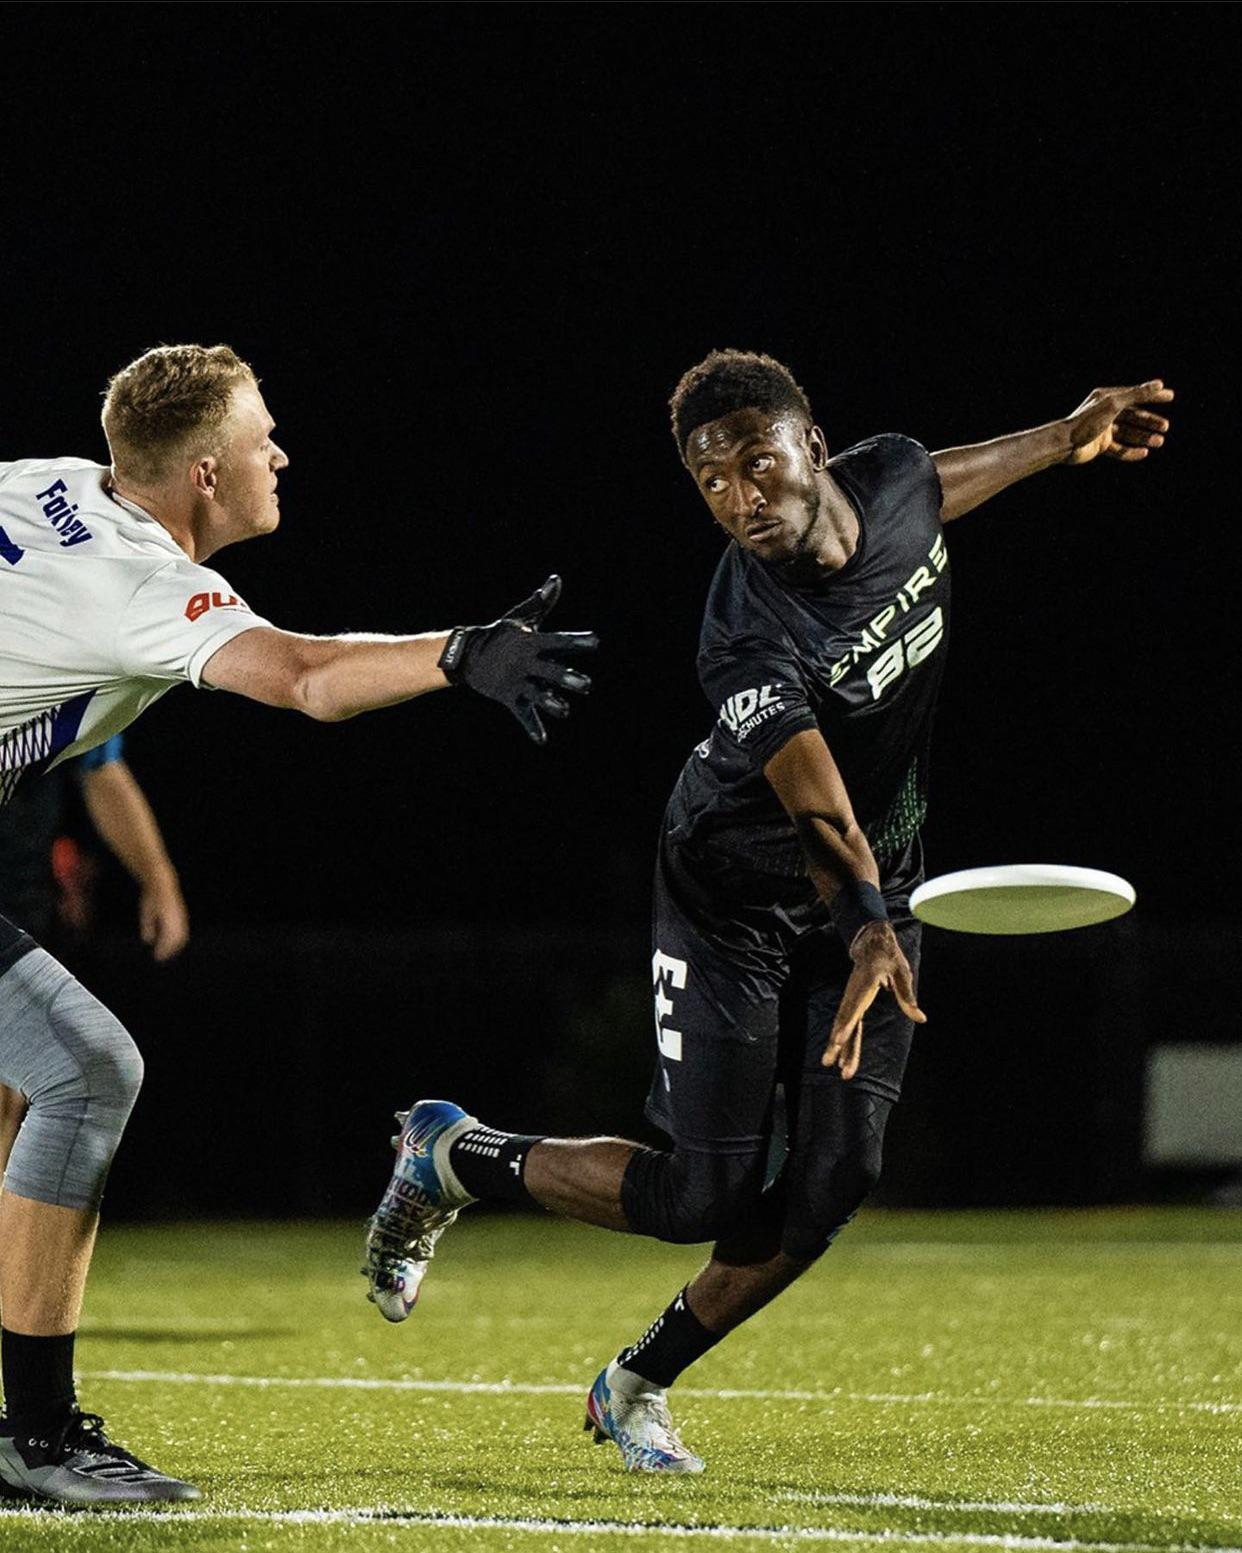disc: (907, 854, 1138, 935)
